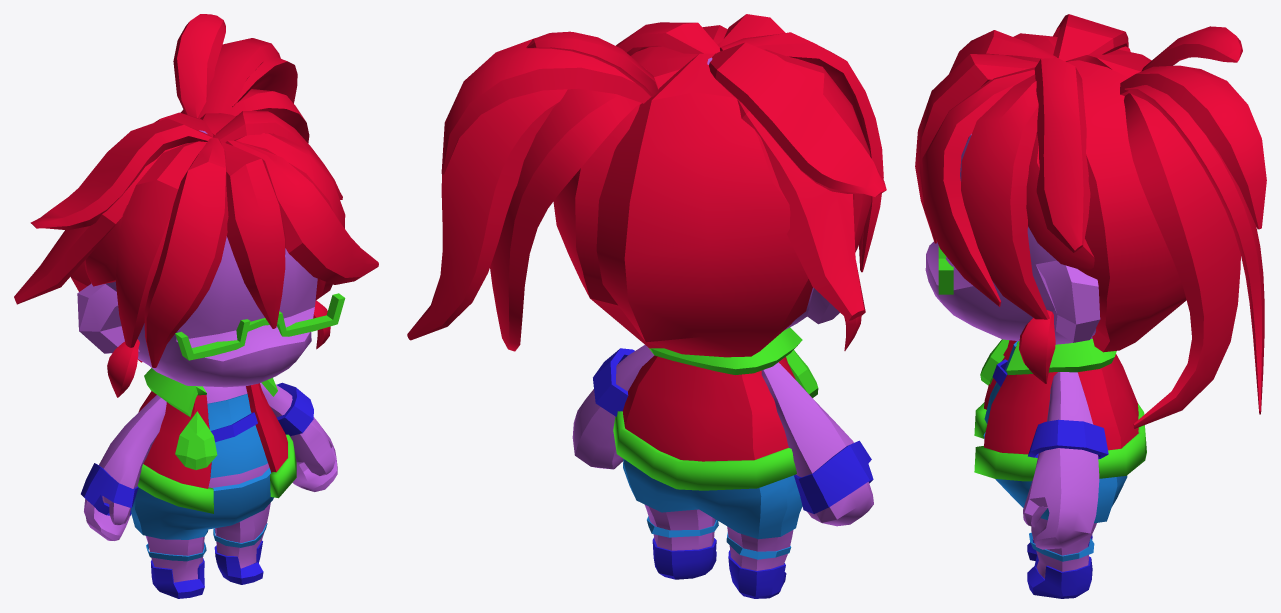
Rendered from magician1106.fbx.
3 views of the same model, side by side, from view 1: azimuth 30°, elevation 25°; view 2: azimuth 150°, elevation 25°; view 3: azimuth 270°, elevation 25° (orthographic). The views are drawn at different scales.
Parts seen in each view (by area): view 1: hair+cloth1, body+head, cloth_main, cloth2+glass, cloth3; view 2: hair+cloth1, body+head, cloth2+glass, cloth3, cloth_main; view 3: hair+cloth1, body+head, cloth2+glass, cloth3, cloth_main.
Part boxes in pixels (x1,y1,x2,y2): hair+cloth1: [14, 14, 378, 488]; body+head: [77, 130, 337, 582]; cloth_main: [131, 393, 273, 561]; cloth2+glass: [137, 293, 345, 513]; cloth3: [81, 382, 313, 598]; hair+cloth1: [407, 14, 886, 461]; body+head: [572, 57, 873, 570]; cloth2+glass: [613, 327, 818, 490]; cloth3: [593, 348, 873, 598]; cloth_main: [623, 459, 802, 559]; hair+cloth1: [915, 14, 1266, 454]; body+head: [925, 134, 1100, 578]; cloth2+glass: [938, 246, 1146, 481]; cloth3: [992, 359, 1108, 598]; cloth_main: [983, 341, 1127, 561].
Size of the model in its own units: 366 by 516 by 287.
